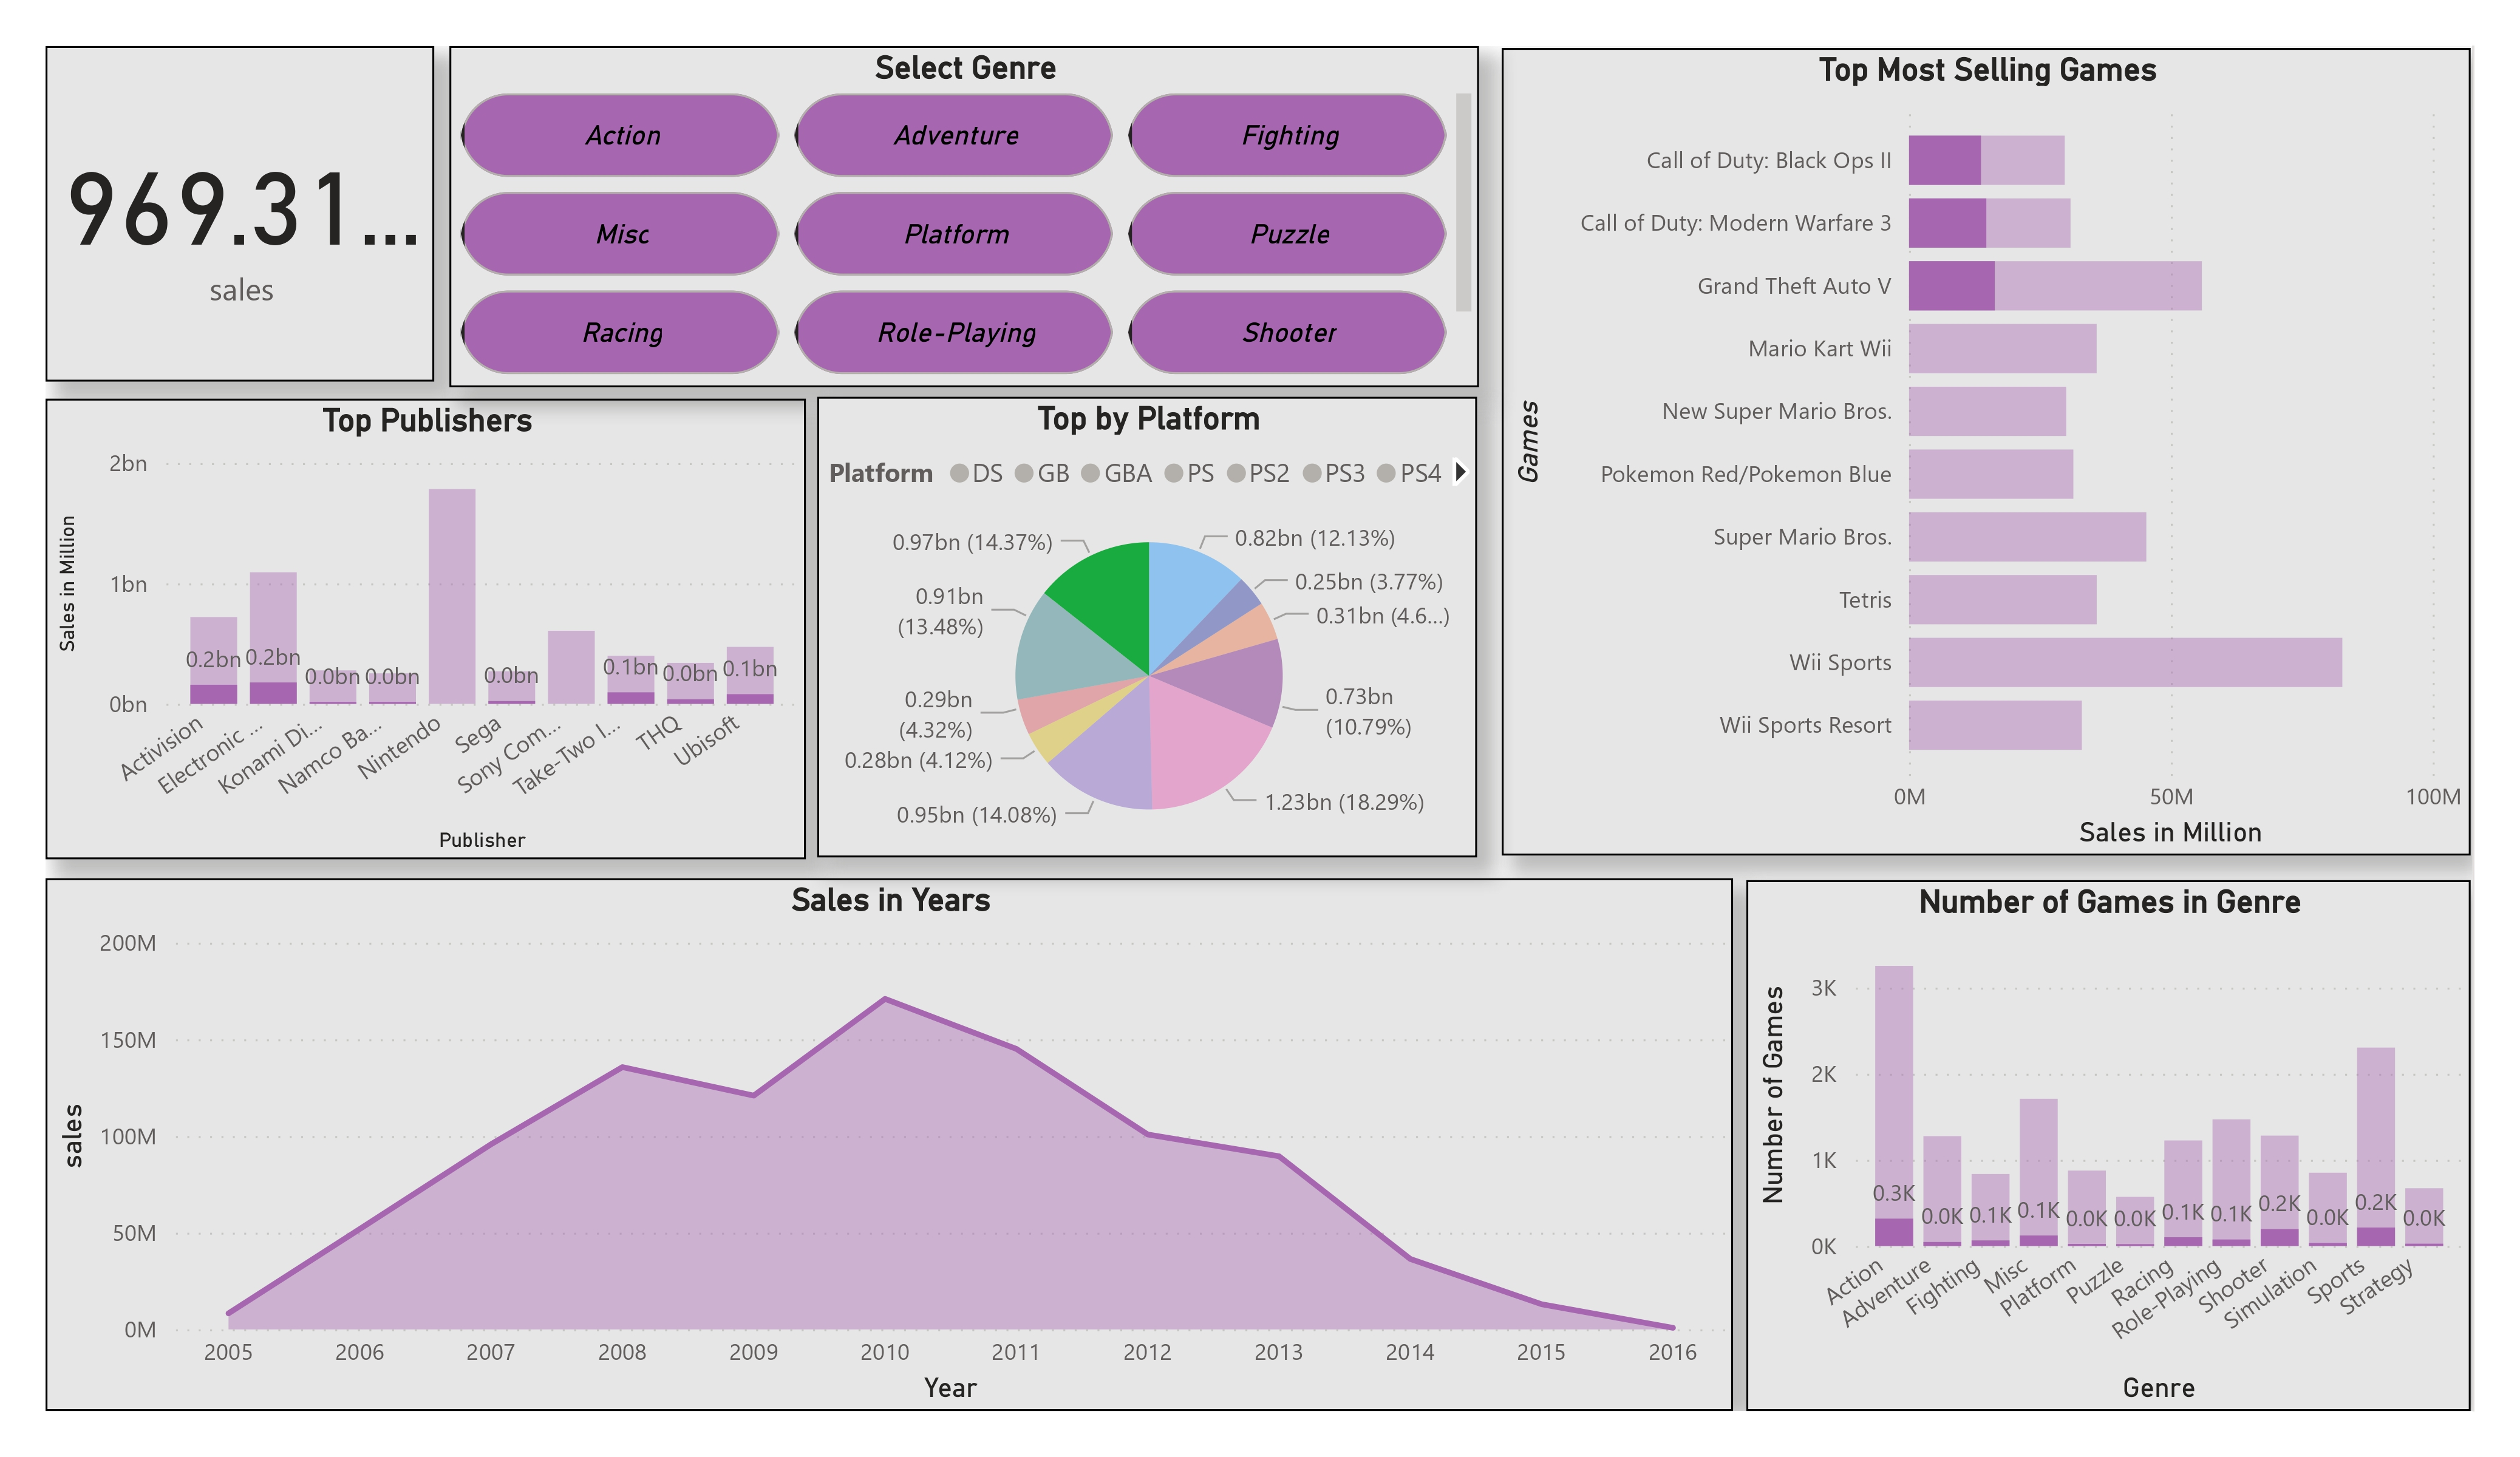

What the dashboard file says about the page in this screenshot:
{"tool":"powerbi","page":{"name":"Page 1","canvas":[1280,720],"ordinal":0},"visuals":[{"type":"barChart","title":"Top Most Selling Games","fields":{"Category":["vgsales.Name"],"Y":["vgsales.sales"]},"box":[767.9,1.1,511.6,426.1],"z":0},{"type":"card","fields":{"Values":["vgsales.sales"]},"box":[0,0,204.6,177.5],"z":1000},{"type":"columnChart","title":"Top Publishers","fields":{"Category":["vgsales.Publisher"],"Y":["vgsales.sales"]},"box":[0,186.3,401.3,243],"z":2000},{"type":"areaChart","title":"Sales in Years","fields":{"Category":["vgsales.Year"],"Y":["vgsales.sales"]},"box":[0,438.6,889.5,281.4],"z":3000},{"type":"advancedSlicerVisual","title":"Select Genre","fields":{"Values":["vgsales.Genre"]},"box":[212.9,0,543.2,179.7],"z":4000},{"type":"pieChart","title":"Top by Platform","fields":{"Category":["vgsales.Platform"],"Y":["vgsales.sales"]},"box":[406.7,185.1,348.1,243],"z":5000},{"type":"columnChart","title":"Number of Games in  Genre","fields":{"Category":["vgsales.Genre"],"Y":["CountNonNull(vgsales.Name)"]},"box":[897.5,440.4,382,279.6],"z":6000}]}

Visuals, with their boxes on the page's 1280x720 design canvas (x1, y1, x2, y2). These are canvas units, not pixel positions in the 2520x1457 screenshot, which may show the page scaled, cropped or inside an application window:
"Top Most Selling Games" barChart: (x1=768, y1=1, x2=1280, y2=427)
card - vgsales.sales: (x1=0, y1=0, x2=205, y2=178)
"Top Publishers" columnChart: (x1=0, y1=186, x2=401, y2=429)
"Sales in Years" areaChart: (x1=0, y1=439, x2=890, y2=720)
"Select Genre" advancedSlicerVisual: (x1=213, y1=0, x2=756, y2=180)
"Top by Platform" pieChart: (x1=407, y1=185, x2=755, y2=428)
"Number of Games in  Genre" columnChart: (x1=898, y1=440, x2=1280, y2=720)
